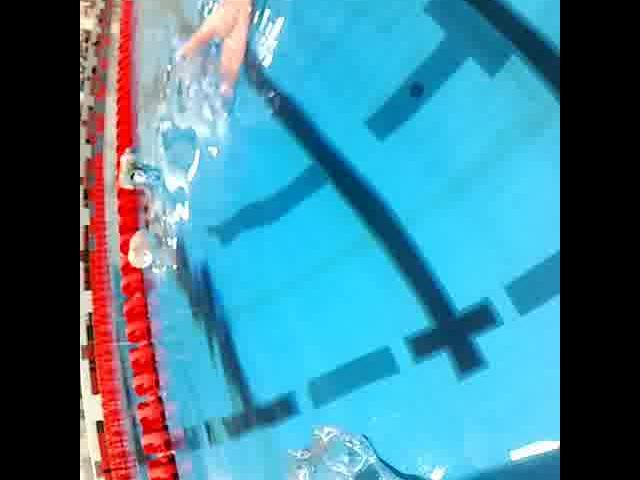Bottle: (276, 415, 514, 480), (127, 218, 155, 280), (114, 142, 140, 192)
Can: (126, 161, 152, 194)
